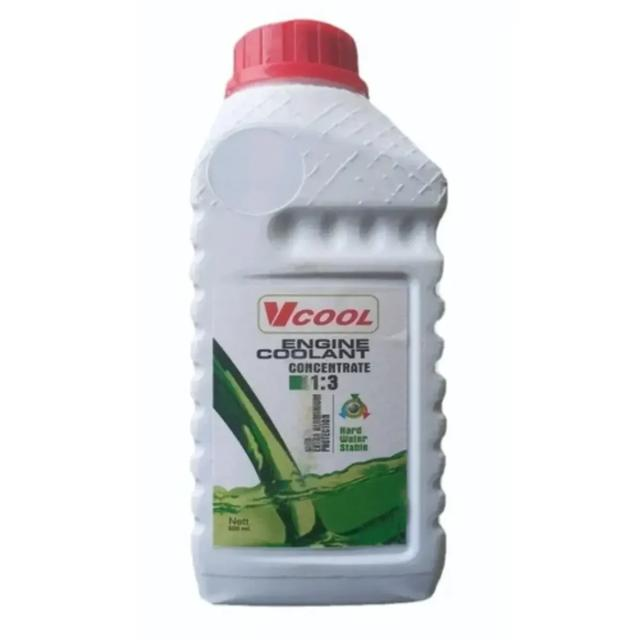coolant: (186, 15, 450, 609)
